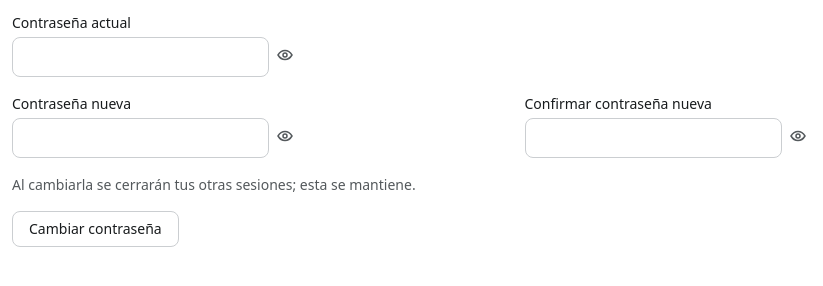
Test case: FormularioContrasena › exige la contraseña actual
The width and height of the screenshot is (823, 286).
Step 1. Type "otra-contrasena-larga" into the password field labelled "Contraseña nueva" → (140, 138), box [12,118,269,158]
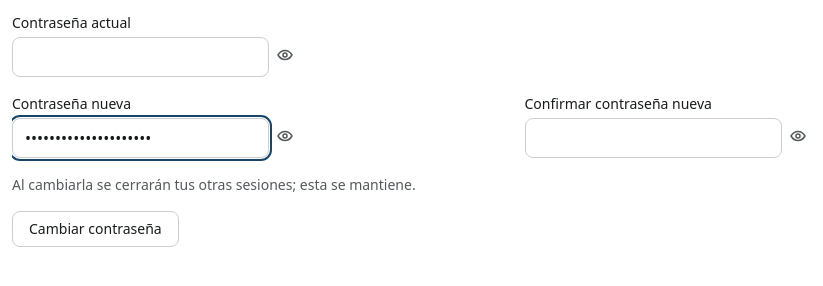
Step 2. Type "otra-contrasena-larga" into the password field labelled "Confirmar contraseña nueva" → (653, 138), box [524,118,782,158]
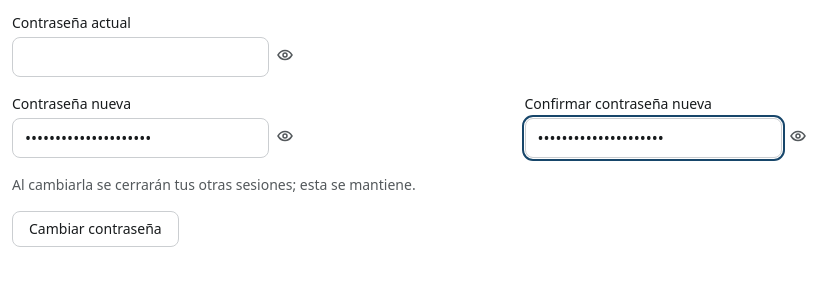
Step 3. Click the button "Cambiar contraseña" → (95, 229), box [12,211,179,246]
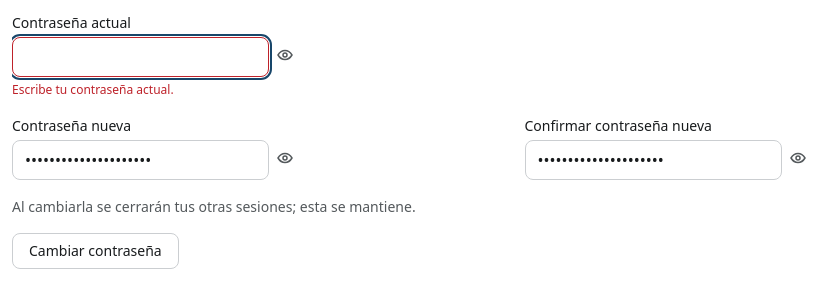
Check: the text "Escribe tu contraseña actual." is shown, box [12,81,174,98]
